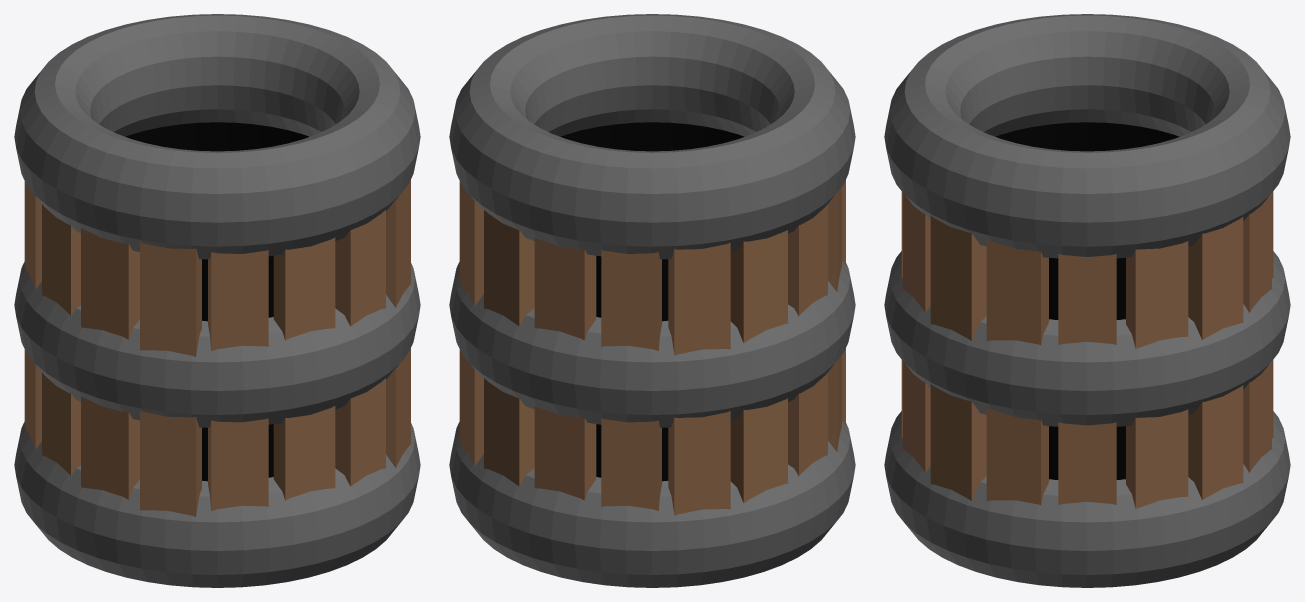
Rendered from prullenbak.fbx.
3 views of the same model, side by side, from view 1: azimuth 30°, elevation 25°; view 2: azimuth 150°, elevation 25°; view 3: azimuth 270°, elevation 25° (orthographic).
Visible parts, largest first — view 1: Torus, Cube.002, Cylinder; view 2: Torus, Cube.002, Cylinder; view 3: Torus, Cube.002, Cylinder.
Part boxes in pixels (x1=…): Torus: x1=14, y1=14, x2=420, y2=587; Cube.002: x1=24, y1=180, x2=410, y2=516; Cylinder: x1=125, y1=122, x2=309, y2=481; Torus: x1=449, y1=14, x2=855, y2=587; Cube.002: x1=459, y1=180, x2=845, y2=515; Cylinder: x1=560, y1=122, x2=744, y2=481; Torus: x1=884, y1=14, x2=1290, y2=587; Cube.002: x1=901, y1=191, x2=1273, y2=508; Cylinder: x1=995, y1=122, x2=1179, y2=479.
Bounding box in the file's own units: 3.5 × 4.12 × 3.5.
